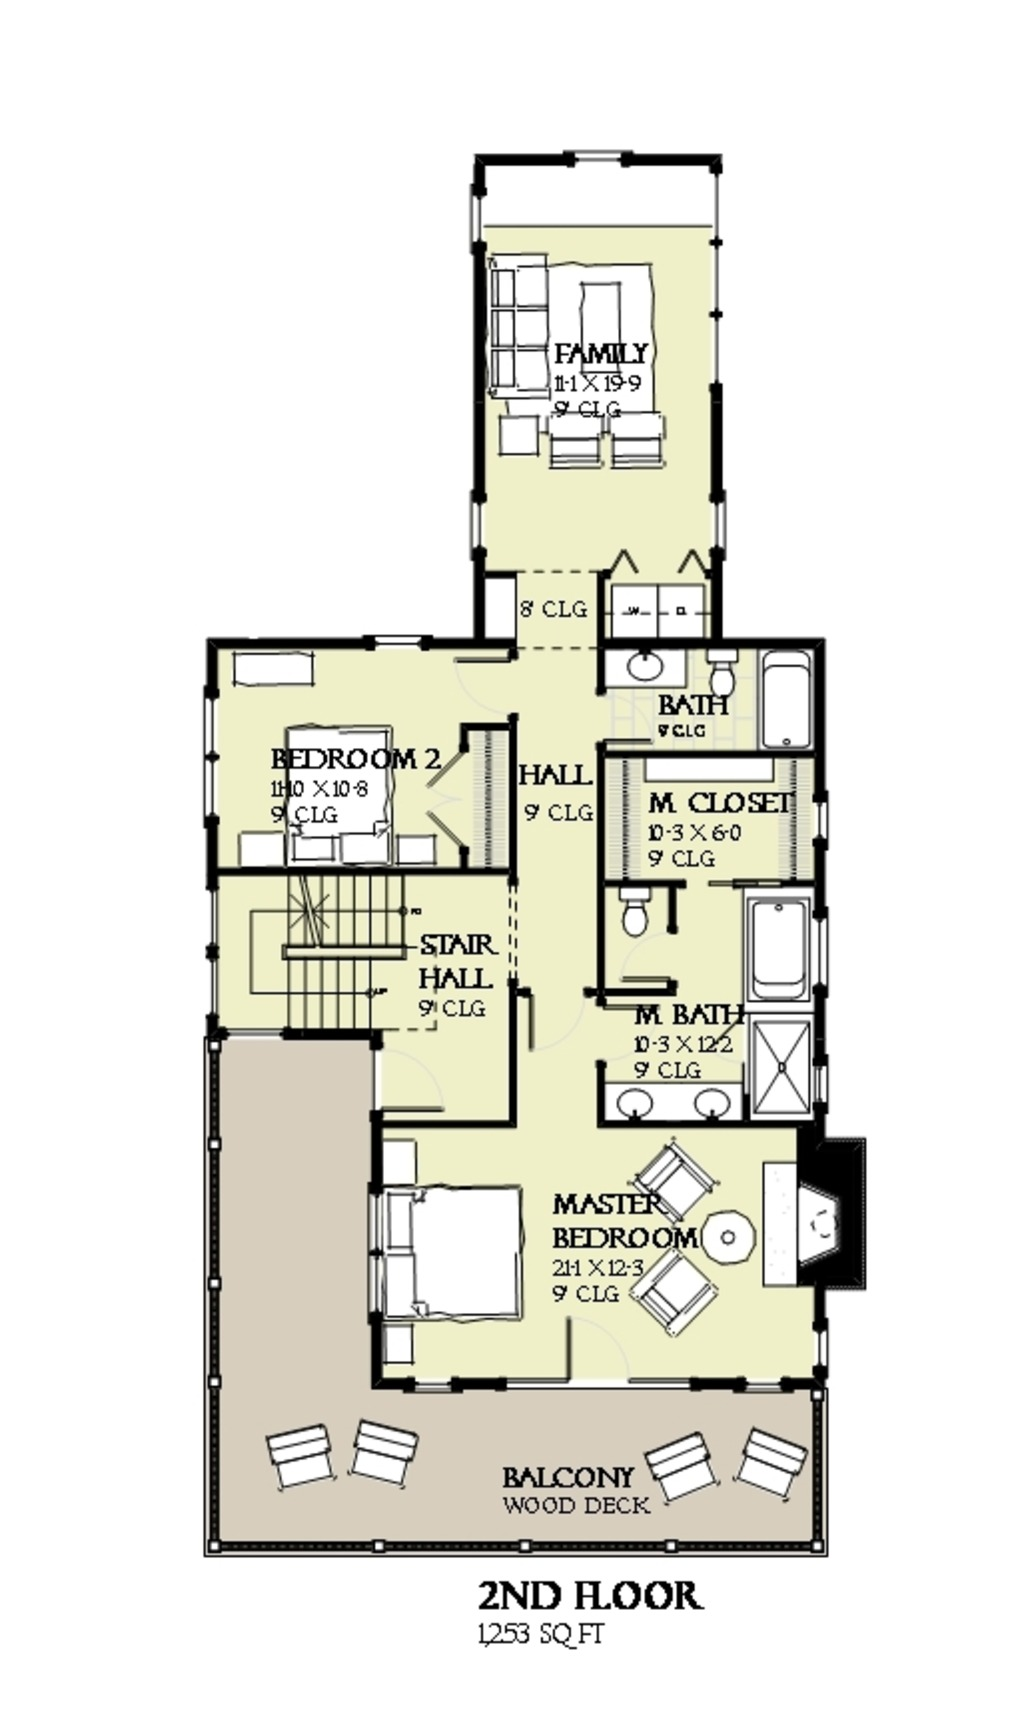bed: (492, 263, 663, 420), (375, 1181, 529, 1324)
large_sink: (616, 882, 672, 937), (699, 635, 739, 698)
small_sink: (602, 1077, 746, 1129), (600, 646, 683, 691)
small_sofa: (628, 1255, 713, 1337), (640, 1151, 716, 1220)
stairs: (208, 878, 410, 1038)
tub: (739, 881, 809, 1009), (752, 639, 816, 757)
windows: (205, 868, 230, 1027), (197, 692, 224, 810), (566, 143, 631, 174), (461, 183, 494, 246), (809, 907, 831, 995), (466, 491, 490, 546)
